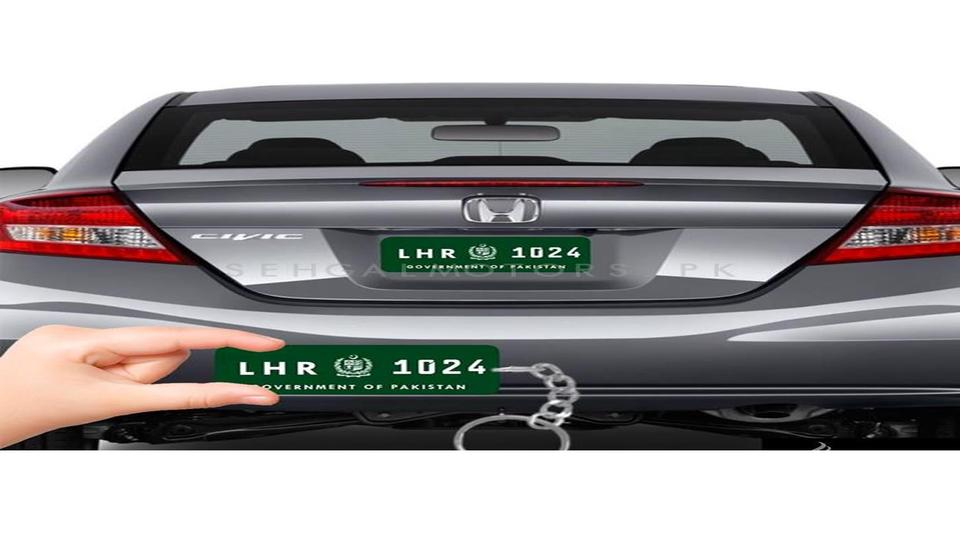NumberPlate: (221, 339, 503, 404), (382, 225, 604, 286)
